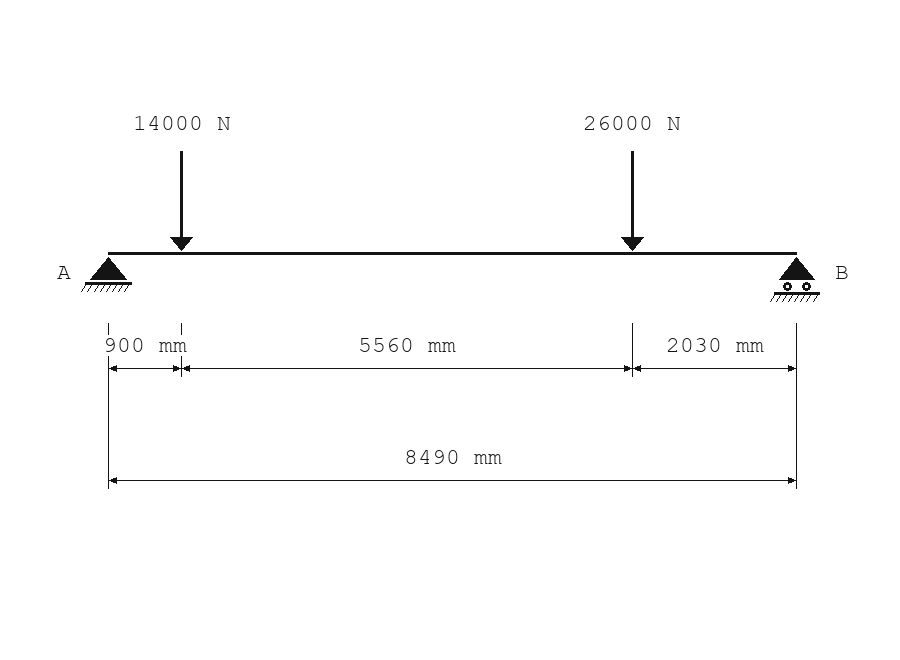pin_support: (81, 257, 132, 292)
point_load: (170, 151, 193, 251), (621, 151, 644, 251)
roller_support: (770, 257, 820, 302)
